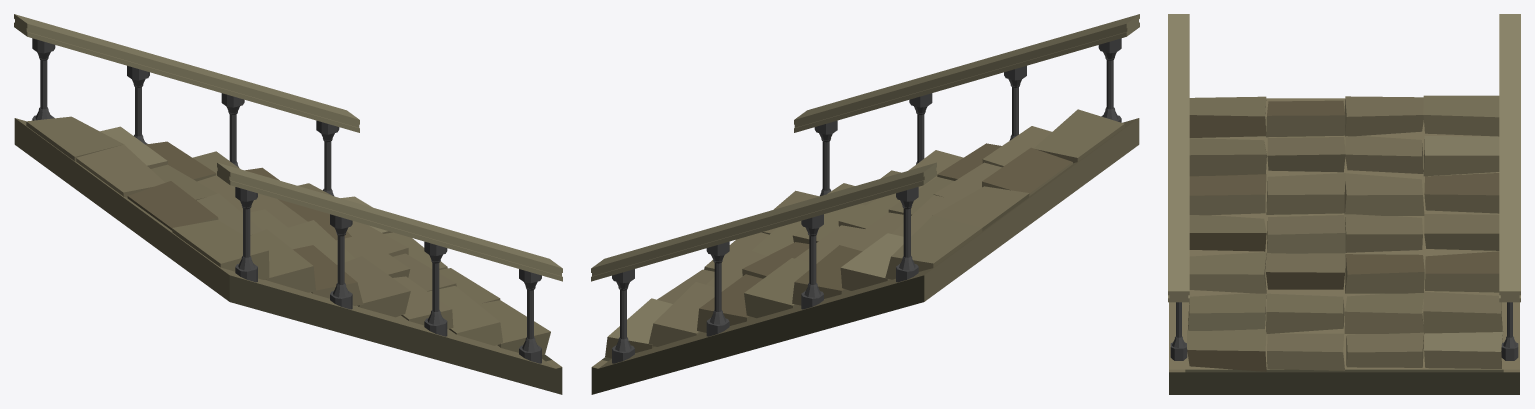
The model's file is StairsHalf.fbx.
3 renders of one model, left to right at view 1: azimuth 30°, elevation 25°; view 2: azimuth 150°, elevation 25°; view 3: azimuth 270°, elevation 25°, orthographic. The views are drawn at different scales.
Visible parts, largest first — view 1: StairsHalf; view 2: StairsHalf; view 3: StairsHalf.
Boxes of the visible parts, left/top/right/bottom form: StairsHalf: left=14, top=14, right=562, bottom=394; StairsHalf: left=591, top=14, right=1139, bottom=394; StairsHalf: left=1168, top=14, right=1520, bottom=394.
Bounding box in the file's own units: 200 × 175 × 225.
